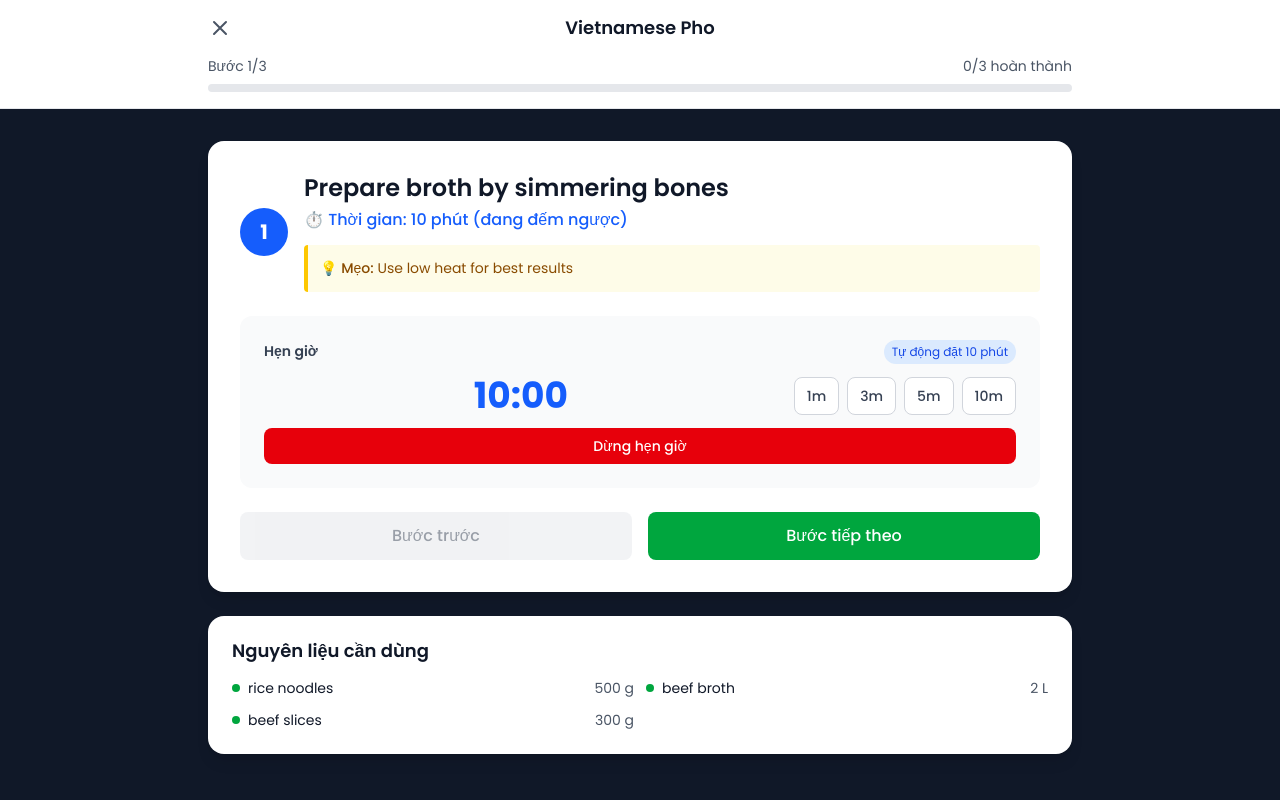
Test: CookingMode Component › should show no timer for steps without duration_minutes
This screenshot has width=1280, height=800.
Note: Navigate to step 3 (no duration)
Click the button "Bước tiếp theo" at point(844, 536), box [648,512,1040,560]
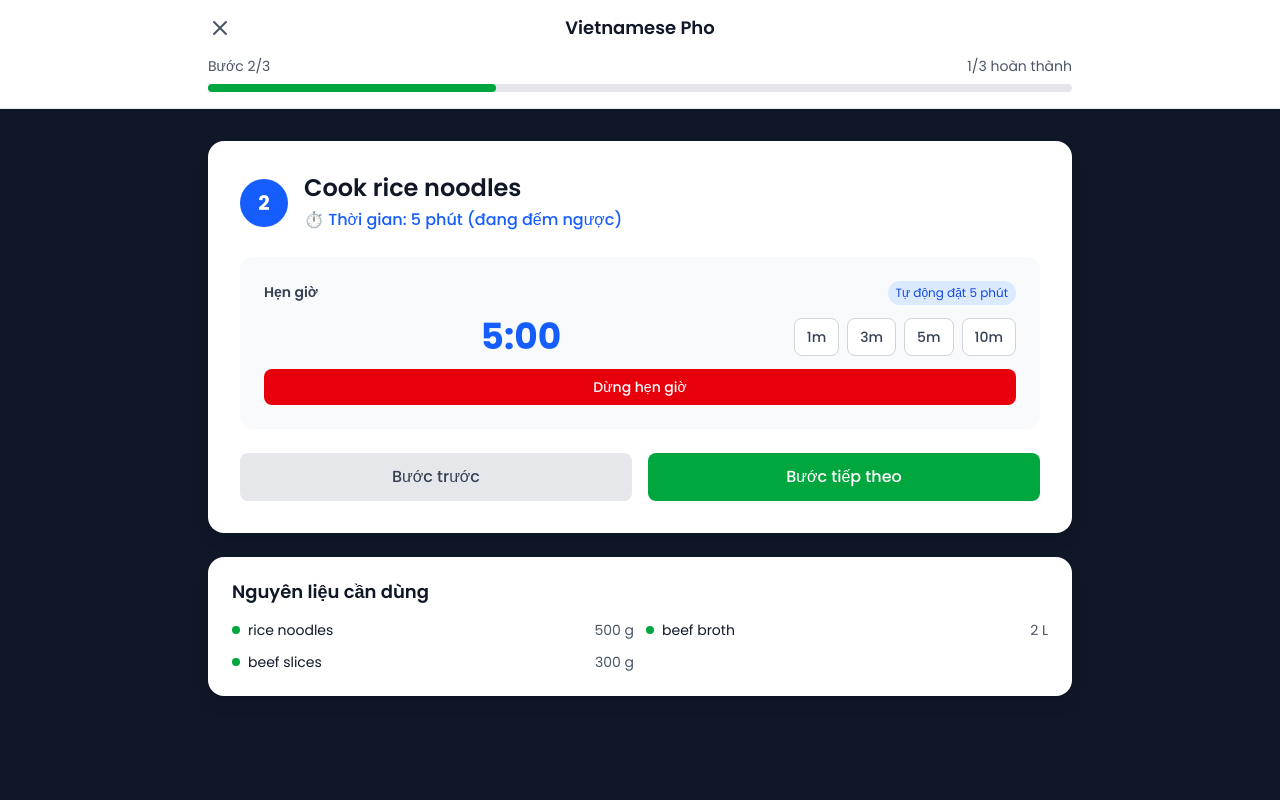
Click the button "Bước tiếp theo" at point(844, 477), box [648,453,1040,501]
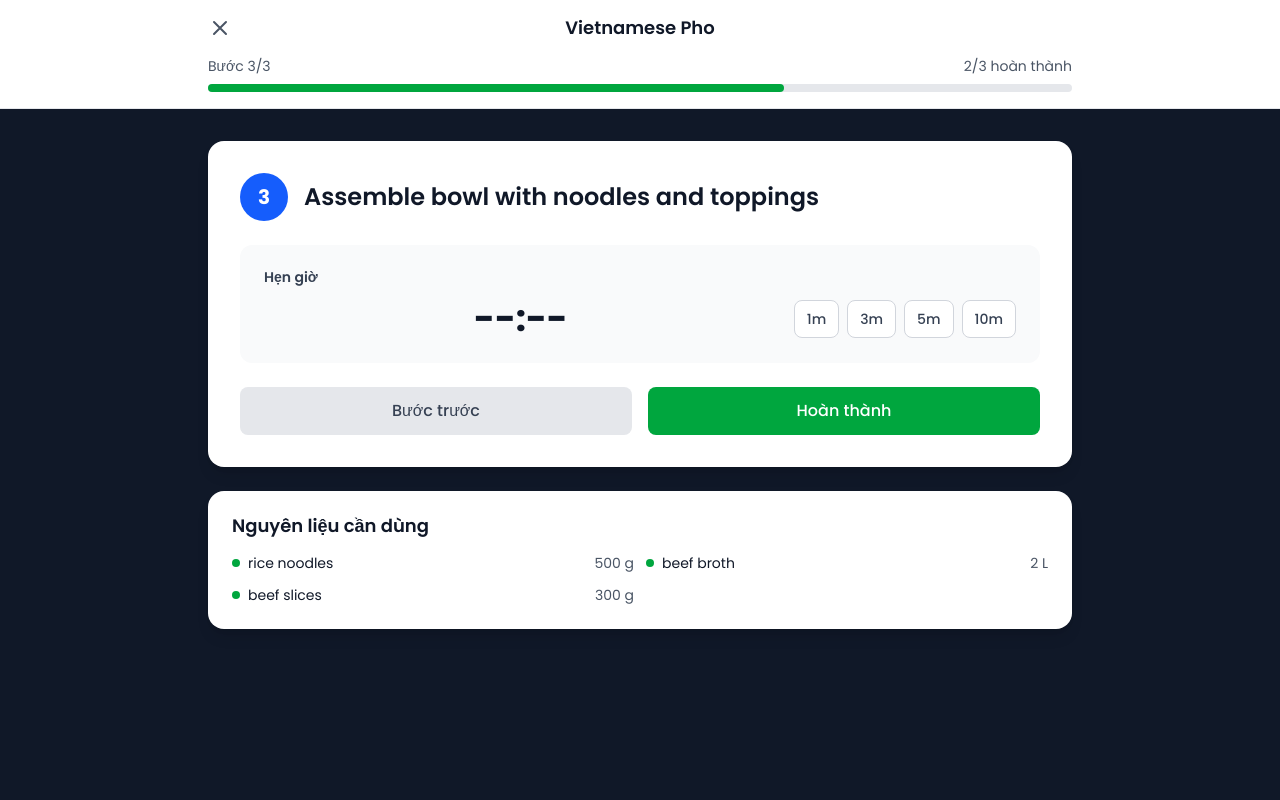
Expected: the text "--:--" is shown, [474,292,568,344]
